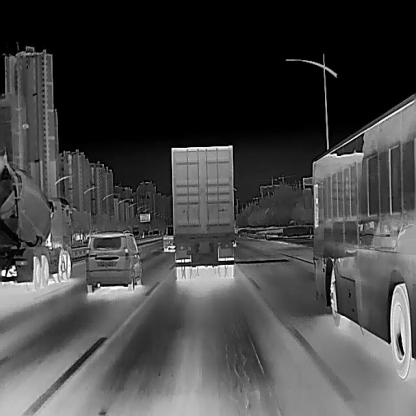bus: (302, 93, 416, 378)
car: (85, 229, 143, 292), (162, 223, 175, 252), (152, 228, 159, 235), (146, 229, 152, 237)
truck: (0, 140, 73, 291), (170, 144, 234, 281), (131, 223, 140, 238)
